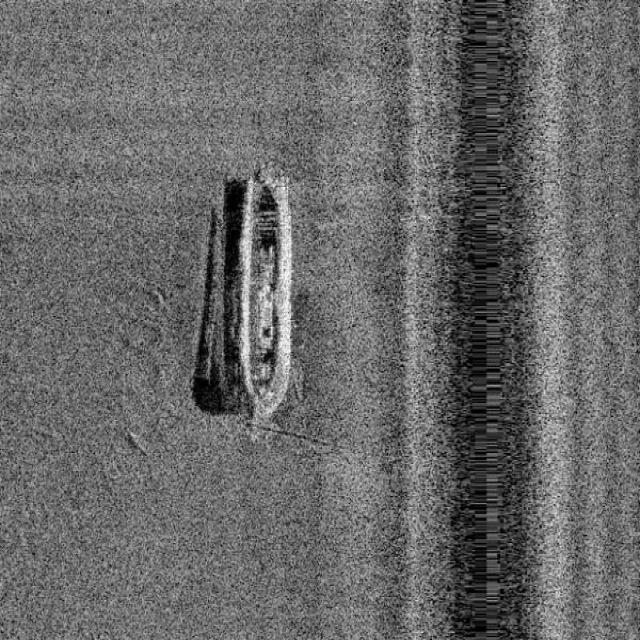ship: (236, 175, 293, 422)
